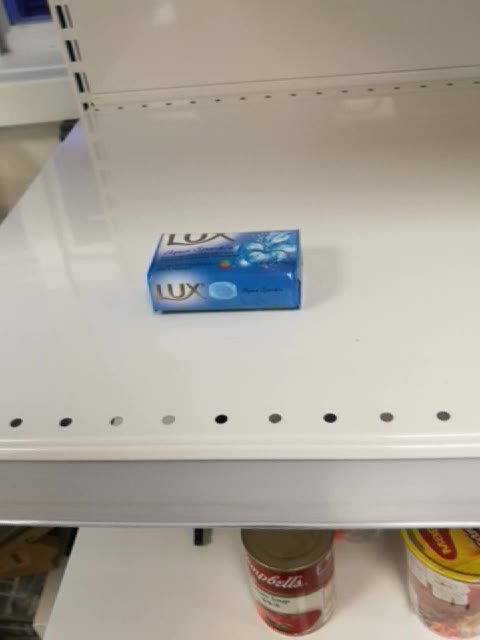soap: (145, 228, 304, 315)
